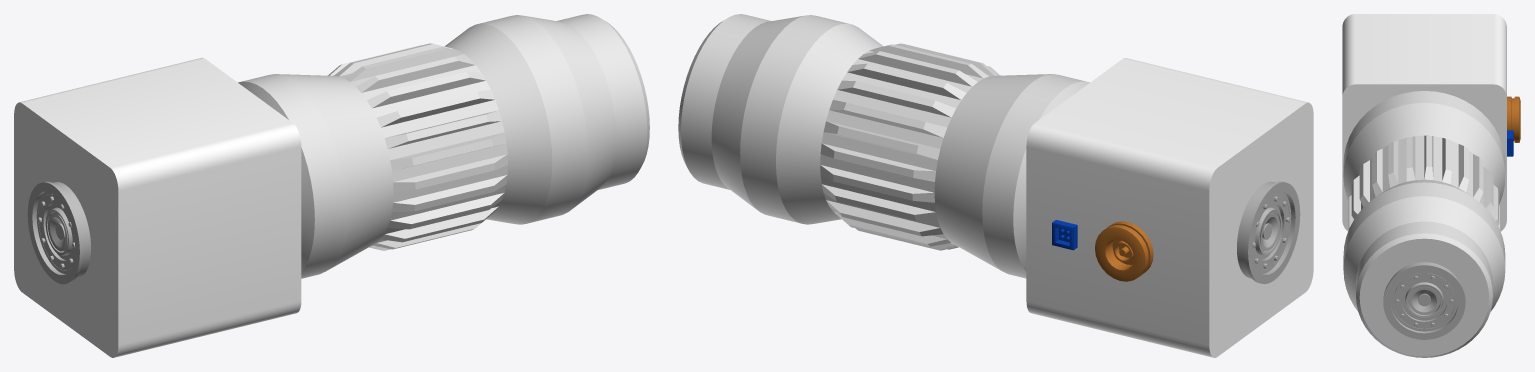
Rendered from BigTurboPump.gltf.
The picture shows the model from 3 angles, left to right: view 1: azimuth 30°, elevation 25°; view 2: azimuth 150°, elevation 25°; view 3: azimuth 270°, elevation 25°; orthographic projection. The views are drawn at different scales.
Visible parts, largest first — view 1: base; view 2: base; view 3: base.
Part boxes in pixels (left/top/right/bottom): base: left=14, top=14, right=649, bottom=357; base: left=678, top=14, right=1313, bottom=357; base: left=1342, top=14, right=1520, bottom=357.
Size of the model in its own units: 1.57 by 0.4997 by 0.5414.
